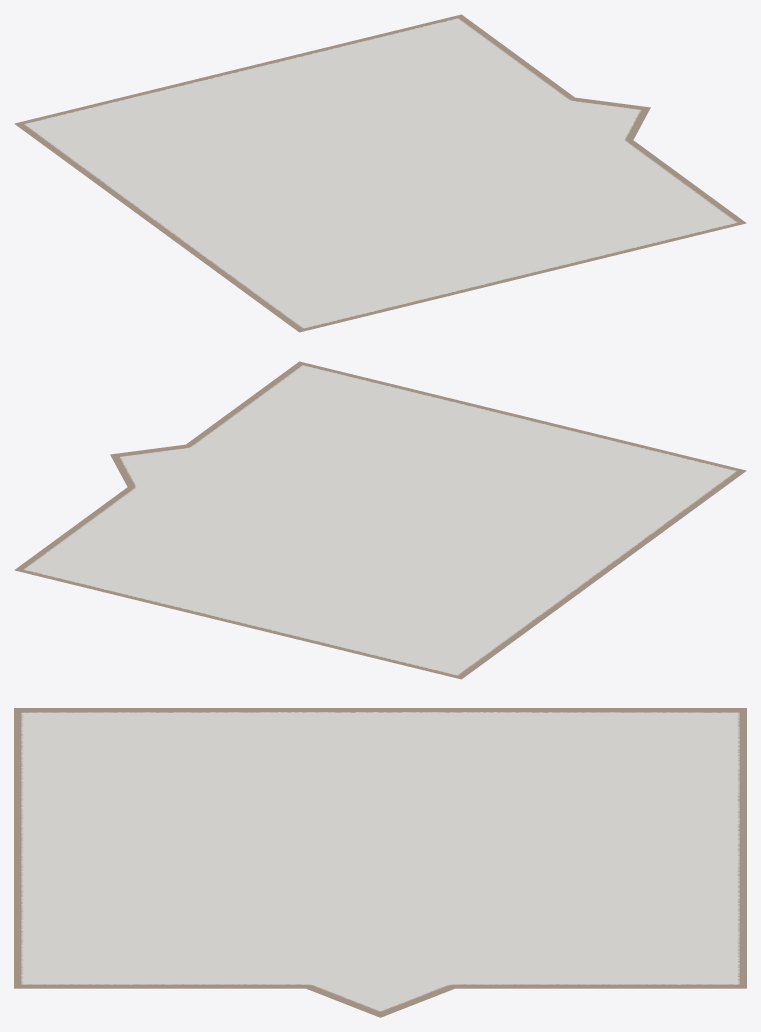
Rendered from customerorderUIplane 1.fbx.
3 views of the same model, one above another, from view 1: azimuth 30°, elevation 25°; view 2: azimuth 150°, elevation 25°; view 3: azimuth 270°, elevation 25° (orthographic). The views are drawn at different scales.
Parts seen in each view (by area): view 1: UIplane; view 2: UIplane; view 3: UIplane.
Boxes of the visible parts, bbox=[...] form: UIplane: bbox=[14, 14, 746, 332]; UIplane: bbox=[14, 361, 746, 679]; UIplane: bbox=[14, 708, 746, 1017].
Size of the model in its own units: 100 by 0 by 100.
